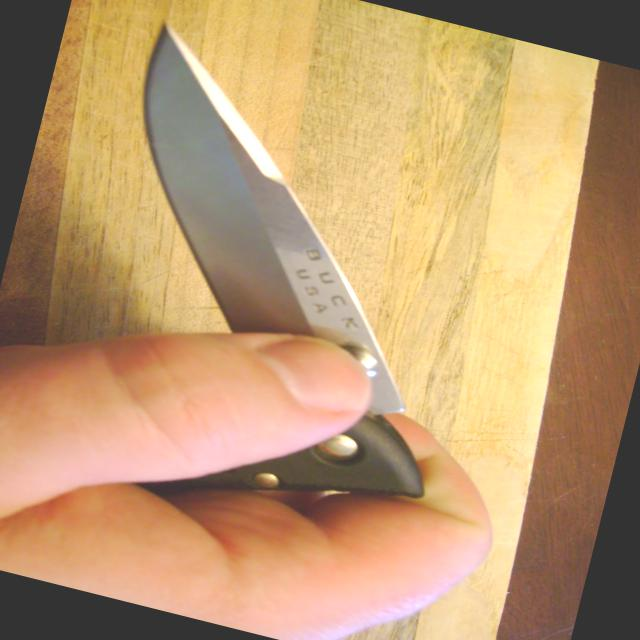knife: (51, 6, 542, 512)
